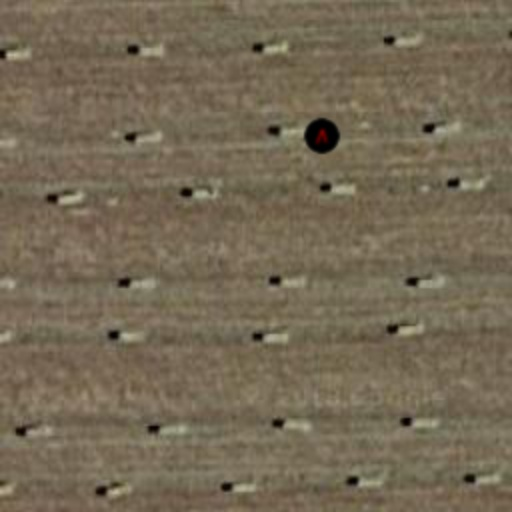circle: (302, 116, 342, 156)
